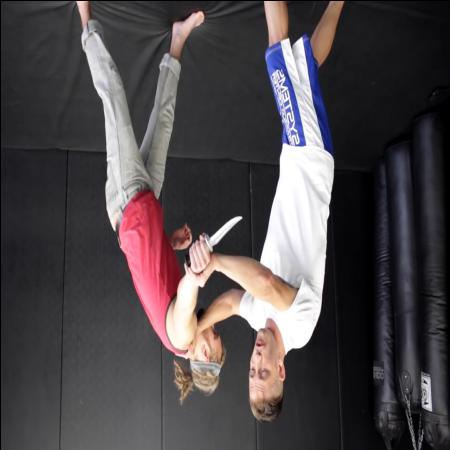long weapon: (182, 206, 246, 274)
